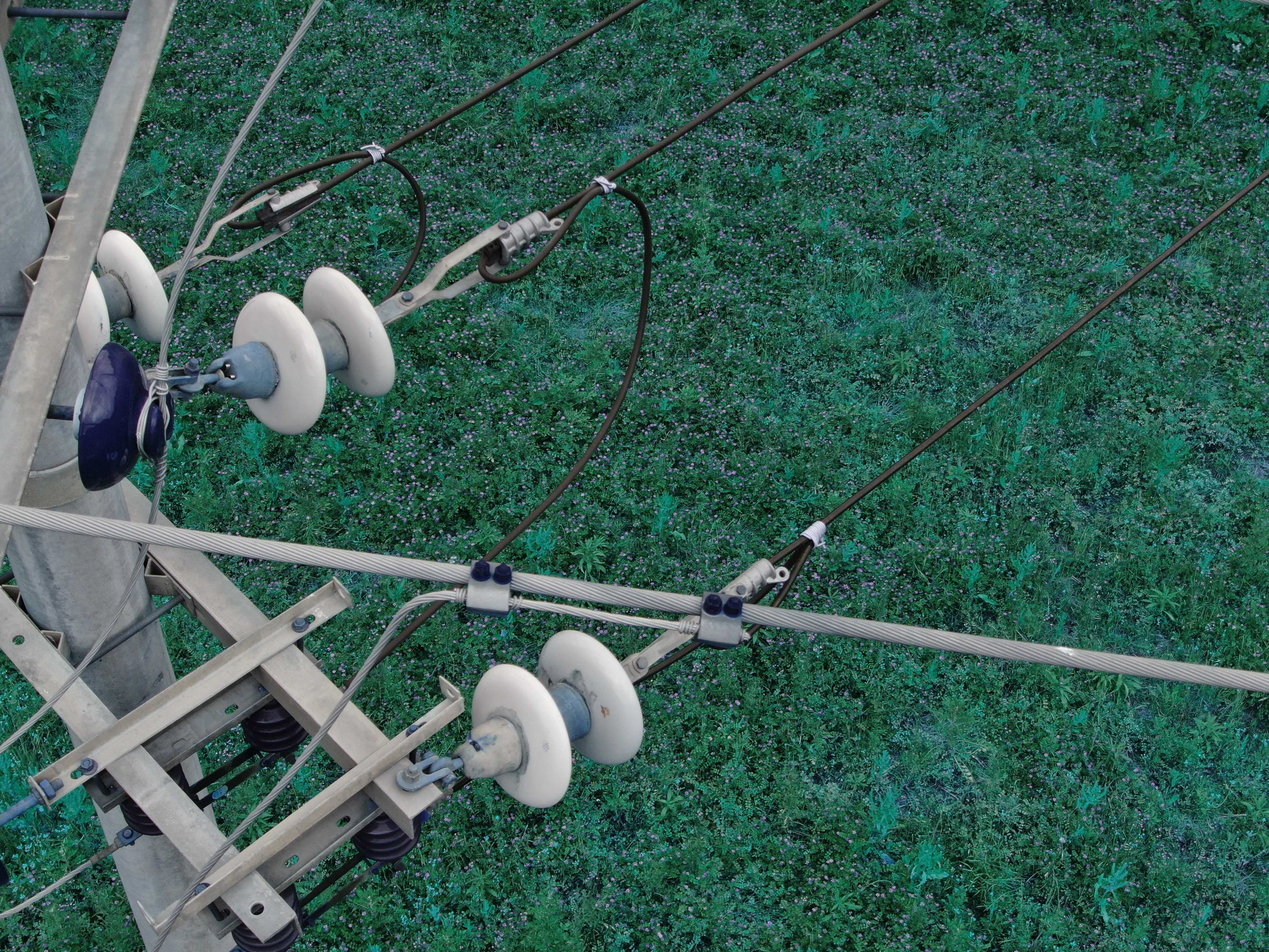severe_soiling_no_discharge_whole: (453, 631, 645, 809)
